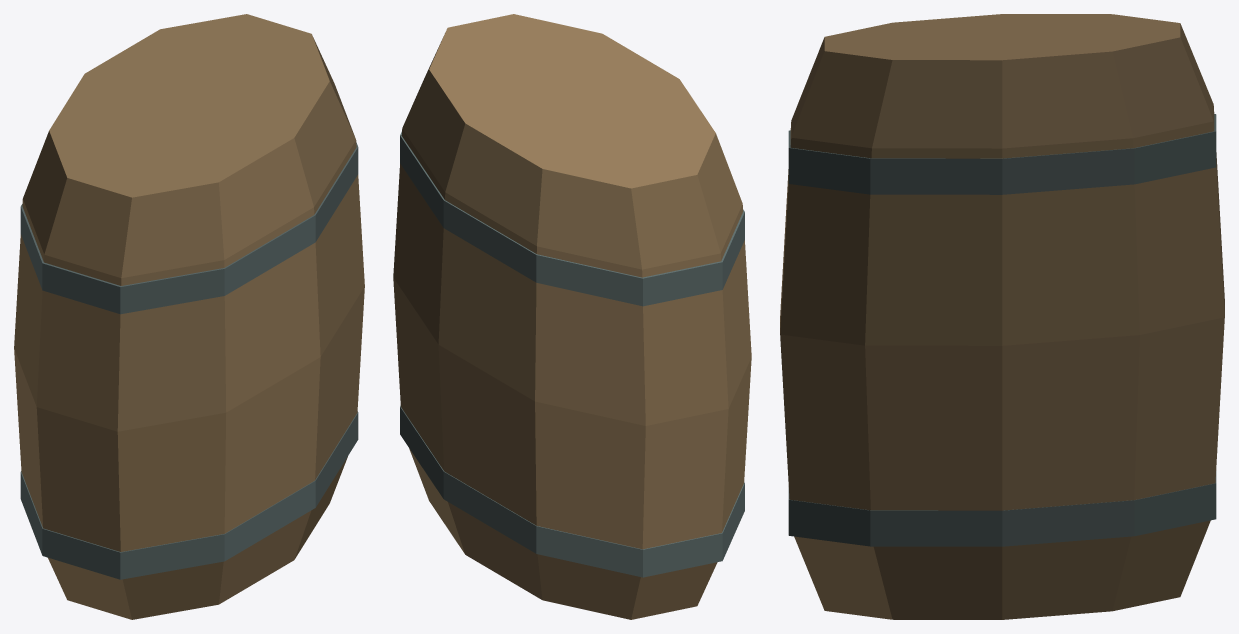
The picture shows the model from 3 angles, left to right: view 1: azimuth 30°, elevation 25°; view 2: azimuth 150°, elevation 25°; view 3: azimuth 270°, elevation 25°; orthographic projection. The views are drawn at different scales.
Visible parts, largest first — view 1: 642fb351e03d96ad65733a028d41abe0a3d2da5bb95ee6772ba97e755cbe; view 2: 642fb351e03d96ad65733a028d41abe0a3d2da5bb95ee6772ba97e755cbe; view 3: 642fb351e03d96ad65733a028d41abe0a3d2da5bb95ee6772ba97e755cbe.
Boxes of the visible parts, left/top/right/bottom form: 642fb351e03d96ad65733a028d41abe0a3d2da5bb95ee6772ba97e755cbe: left=14, top=14, right=364, bottom=619; 642fb351e03d96ad65733a028d41abe0a3d2da5bb95ee6772ba97e755cbe: left=393, top=14, right=751, bottom=619; 642fb351e03d96ad65733a028d41abe0a3d2da5bb95ee6772ba97e755cbe: left=780, top=14, right=1224, bottom=619.
Size of the model in its own units: 0.53 by 0.8399 by 0.5041.
Materials: 1 (1 with a texture image).
